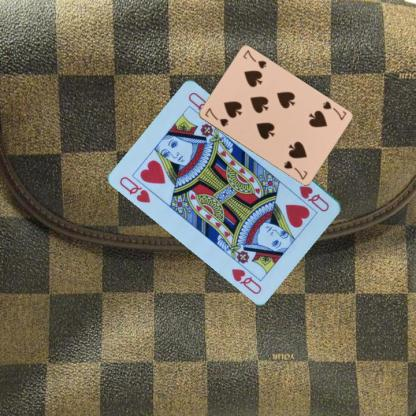7s: (203, 105, 230, 128), (320, 99, 347, 121)
Qh: (117, 174, 152, 204), (297, 183, 331, 213)
